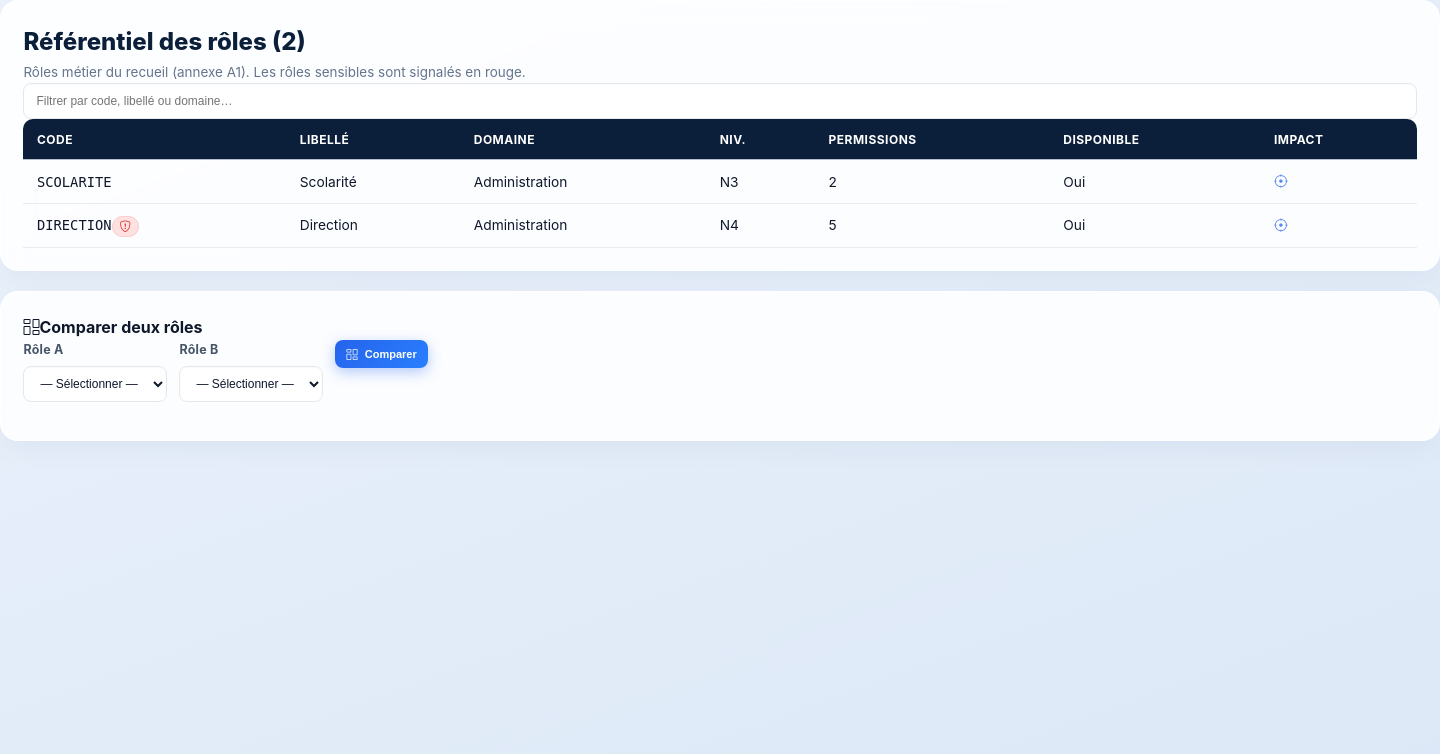
Test: GestionRoles — versions (Lot B) › liste les versions et propose la restauration avec motif
Click the row with test id "ligne-role-SCOLARITE". click: [720, 182]
box: [23,160,1417,204]
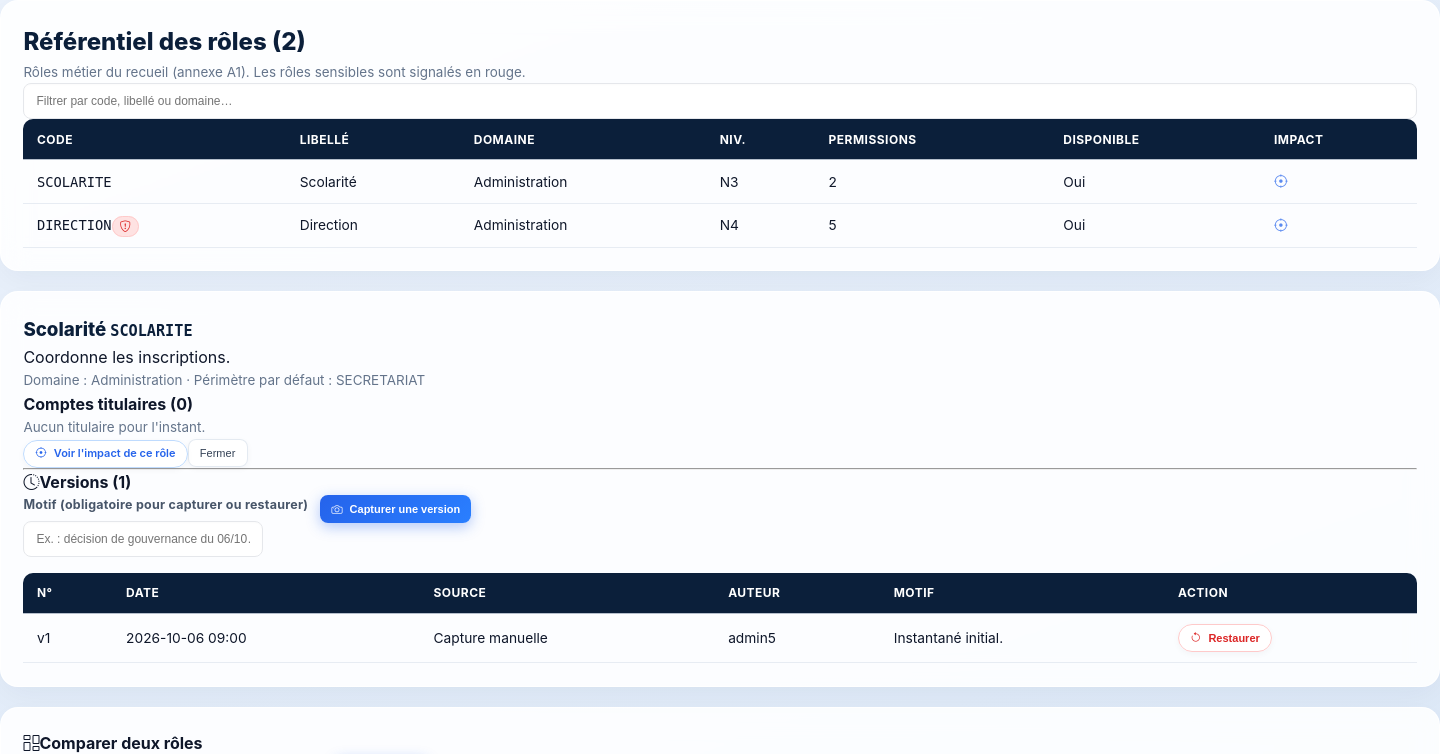
Expected: the table with test id "versions-liste" is shown, [23,573,1417,664]
Expected: the row with test id "version-1" is shown, [23,614,1417,664]
Sans motif : la restauration est refusée côté interface.
Click the button with test id "restaurer-version-1". click: [1225, 638]
box: [1178,624,1272,652]
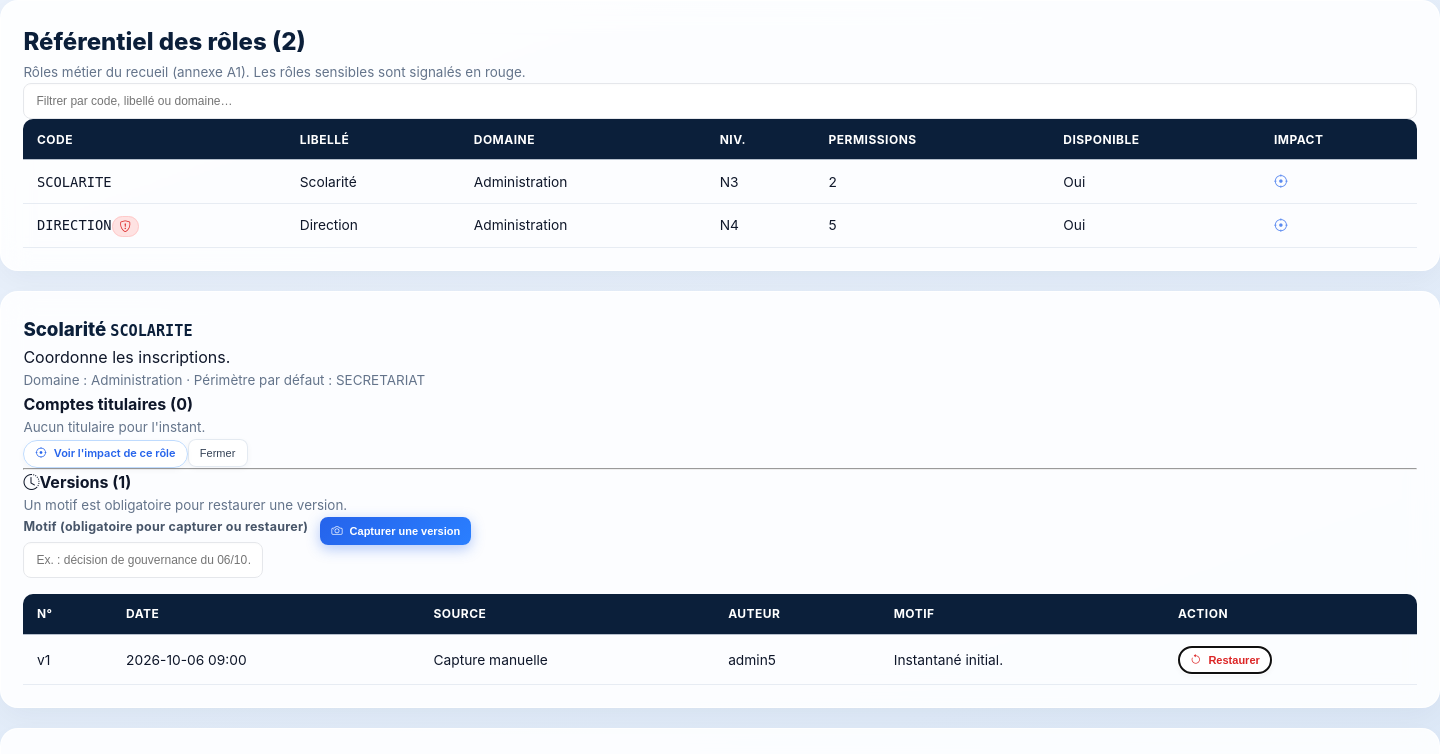
Expected: the message with test id "versions-message" shows "motif est obligatoire", [23,497,347,513]
Type "Retour arrière validé" into the field with test id "motif-version". click: [143, 560]
box: [23,542,263,578]
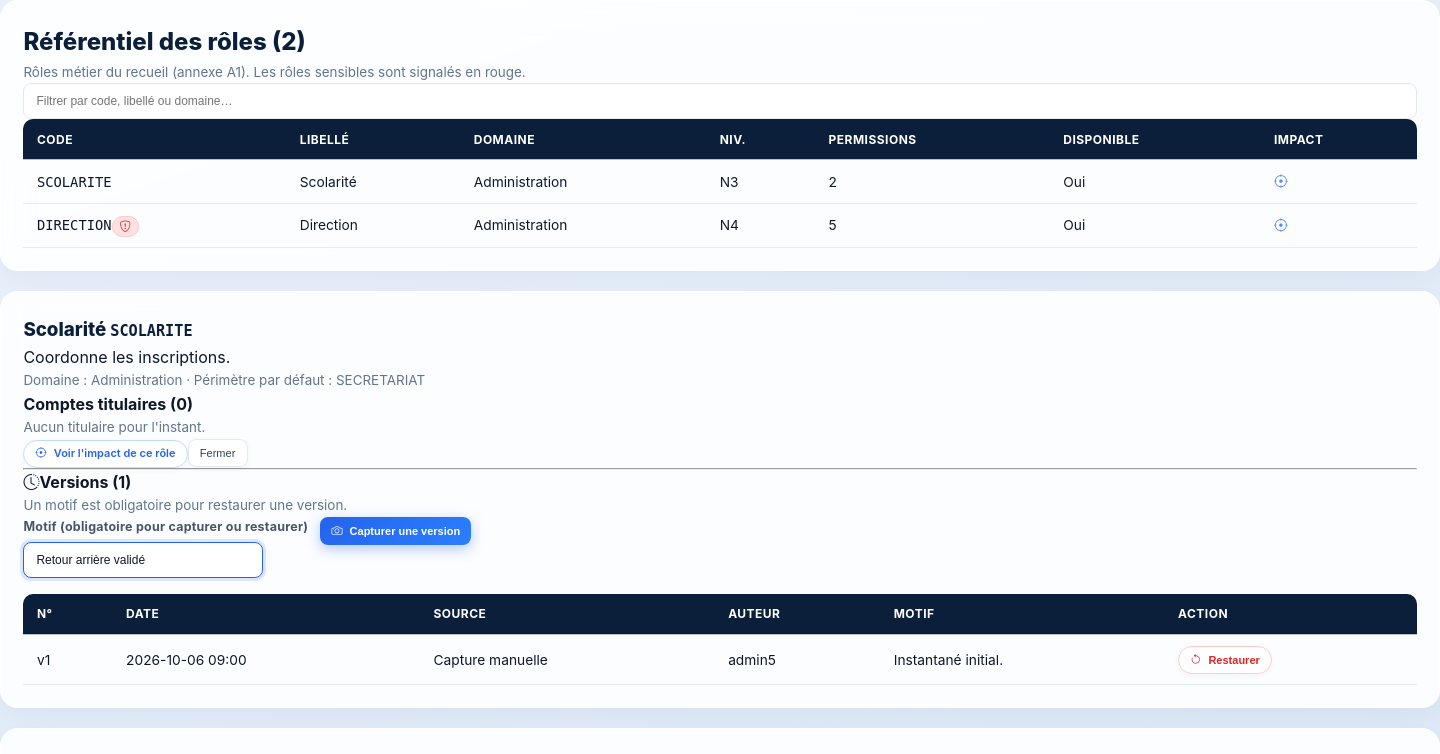
Click the button with test id "restaurer-version-1". click: [1225, 660]
box: [1178,646,1272,674]
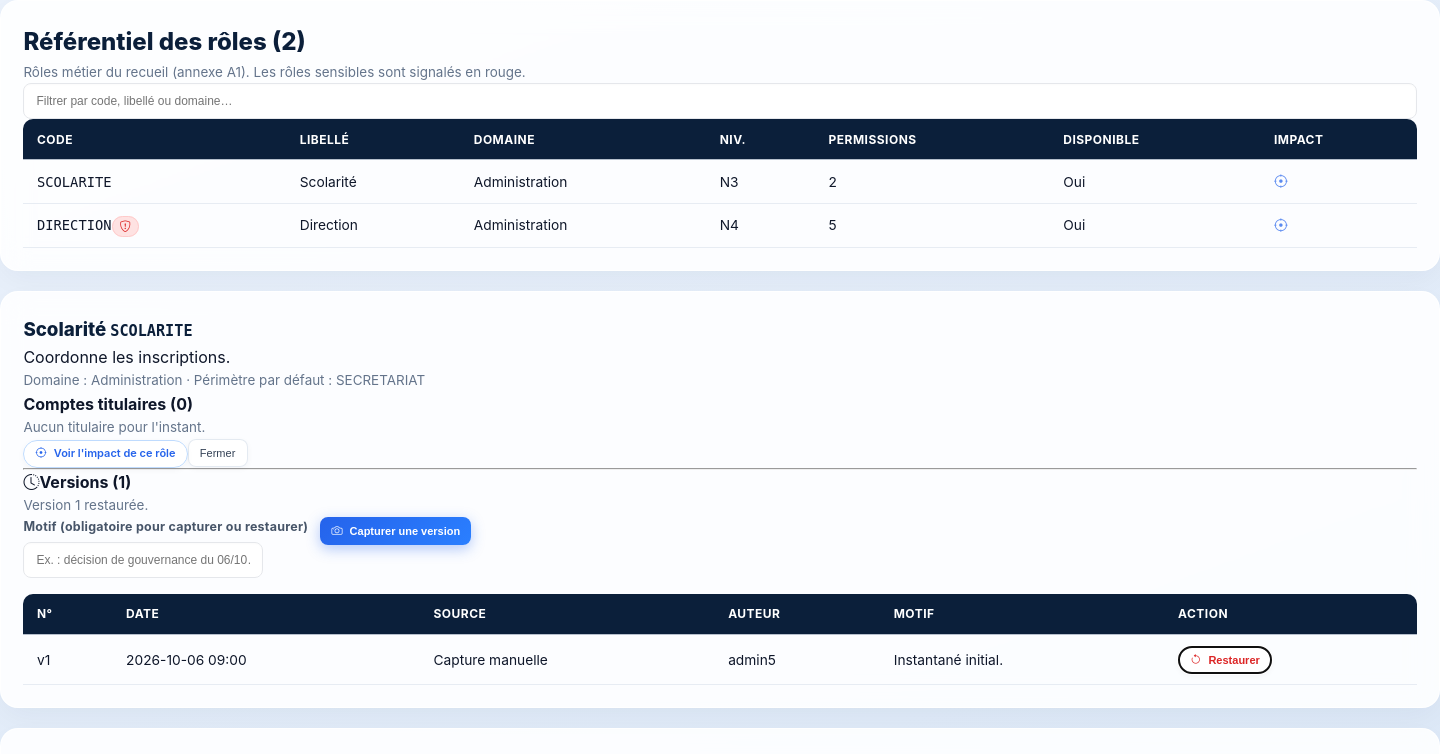
Expected: the message with test id "versions-message" shows "Version 1 restaurée", [23,497,148,513]
